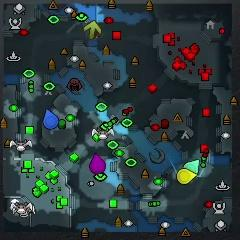p1: (43, 109, 59, 129)
p2: (184, 160, 200, 175)
p3: (89, 153, 106, 174)
p4: (178, 168, 197, 184)
x2: (84, 21, 101, 38)
